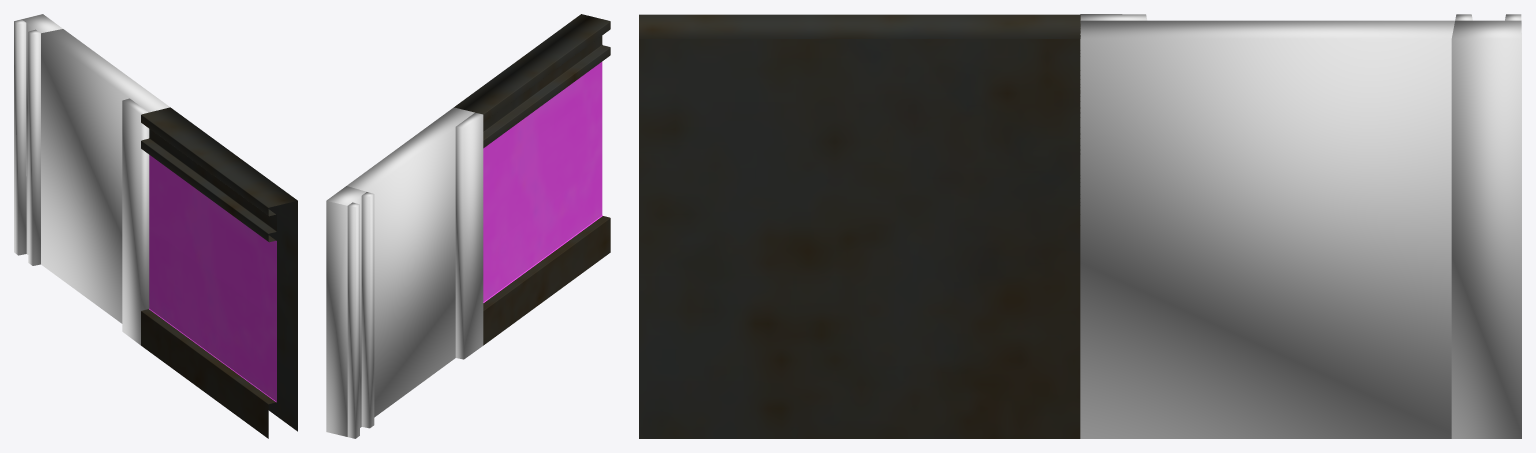
File: SM_Wall_Half_Low.fbx
3 renders of one model, left to right at view 1: azimuth 30°, elevation 25°; view 2: azimuth 150°, elevation 25°; view 3: azimuth 270°, elevation 25°, orthographic. The views are drawn at different scales.
Visible parts, largest first — view 1: SM_Wall_Half_Low, SM_Wall_Half_Low_ConvexHulls; view 2: SM_Wall_Half_Low_ConvexHulls, SM_Wall_Half_Low; view 3: SM_Wall_Half_Low, SM_Wall_Half_Low_ConvexHulls.
Boxes of the visible parts, x1,y1,x2,y2 form: SM_Wall_Half_Low: (141,107,297,438); SM_Wall_Half_Low_ConvexHulls: (14,14,169,345); SM_Wall_Half_Low_ConvexHulls: (326,107,483,438); SM_Wall_Half_Low: (454,14,610,345); SM_Wall_Half_Low: (639,14,1080,438); SM_Wall_Half_Low_ConvexHulls: (1080,14,1521,438).
Size of the model in its own units: 0.2 by 1.5 by 3.
